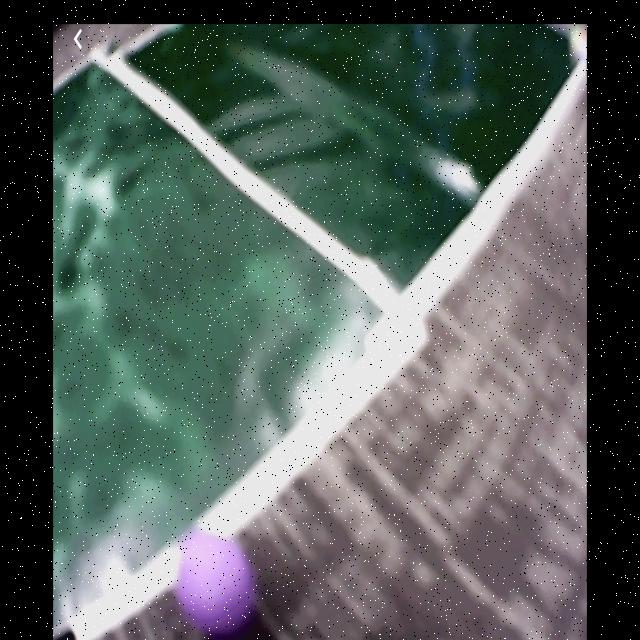ball: (179, 528, 254, 633)
